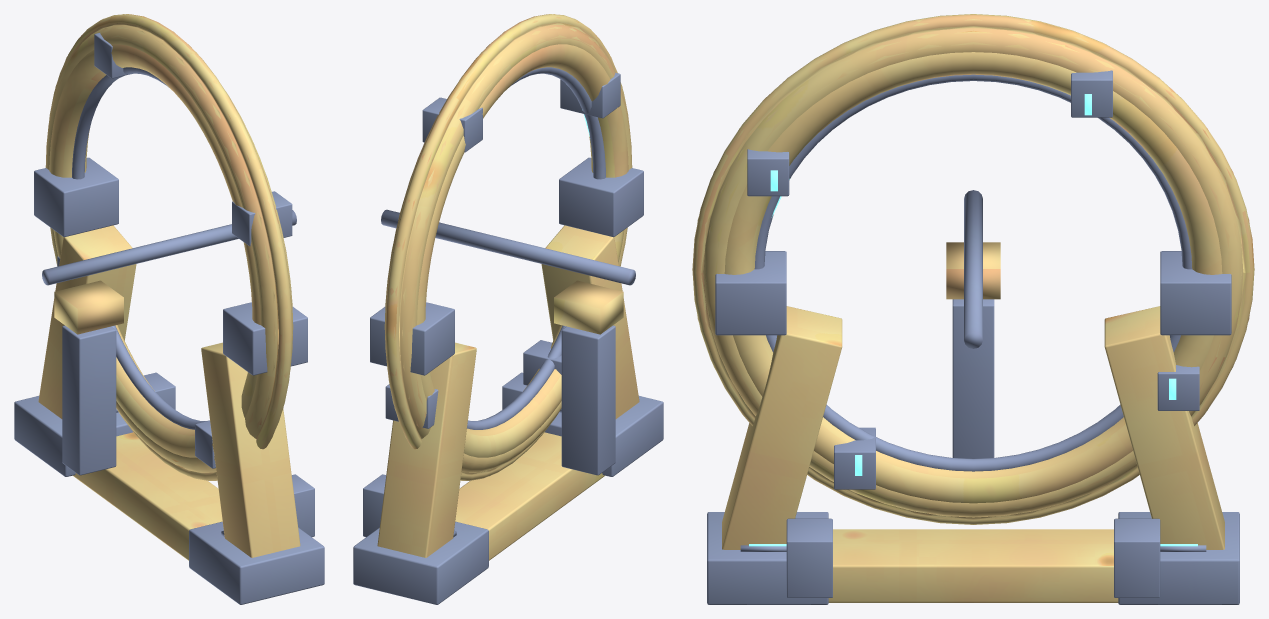
Rendered from helios_gate.glb.
The picture shows the model from 3 angles, left to right: view 1: azimuth 30°, elevation 25°; view 2: azimuth 150°, elevation 25°; view 3: azimuth 270°, elevation 25°; orthographic projection. The views are drawn at different scales.
Parts seen in each view (by area): view 1: LOD0_Merged_Material_Hull, LOD0_Merged_Material_Mechanical, LOD1_Merged_Material_Hull, LOD1_Merged_Material_Mechanical, LOD2_Merged_Material_Hull; view 2: LOD0_Merged_Material_Hull, LOD0_Merged_Material_Mechanical, LOD1_Merged_Material_Hull, LOD1_Merged_Material_Mechanical, LOD2_Merged_Material_Hull; view 3: LOD0_Merged_Material_Hull, LOD0_Merged_Material_Mechanical, LOD1_Merged_Material_Hull, LOD2_Merged_Material_Hull, LOD1_Merged_Material_Mechanical, LOD0_HOOK_EMISSIVE.
Boxes of the visible parts, box(x1,y1,x2,y2) form: LOD0_Merged_Material_Hull: box(38, 44, 300, 560); LOD0_Merged_Material_Mechanical: box(14, 32, 324, 604); LOD1_Merged_Material_Hull: box(45, 14, 293, 480); LOD1_Merged_Material_Mechanical: box(42, 210, 296, 285); LOD2_Merged_Material_Hull: box(46, 14, 292, 480); LOD0_Merged_Material_Hull: box(377, 44, 639, 560); LOD0_Merged_Material_Mechanical: box(353, 67, 663, 604); LOD1_Merged_Material_Hull: box(384, 14, 632, 480); LOD1_Merged_Material_Mechanical: box(381, 209, 635, 285); LOD2_Merged_Material_Hull: box(385, 14, 631, 480); LOD0_Merged_Material_Hull: box(722, 52, 1224, 602); LOD0_Merged_Material_Mechanical: box(707, 70, 1239, 604); LOD1_Merged_Material_Hull: box(692, 14, 1254, 524); LOD2_Merged_Material_Hull: box(694, 19, 1252, 524); LOD1_Merged_Material_Mechanical: box(964, 190, 982, 348); LOD0_HOOK_EMISSIVE: box(749, 94, 1197, 546).
Size of the model in its own units: 16 by 30 by 26.8.
3 materials, 3 textured.
